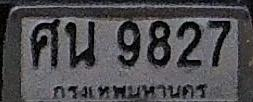2: (176, 21, 202, 67)
7: (208, 20, 231, 66)
8: (148, 20, 170, 66)
9: (117, 20, 140, 66)
A25: (65, 21, 95, 68)
A38: (30, 19, 60, 68)
BKK: (49, 78, 210, 102)
